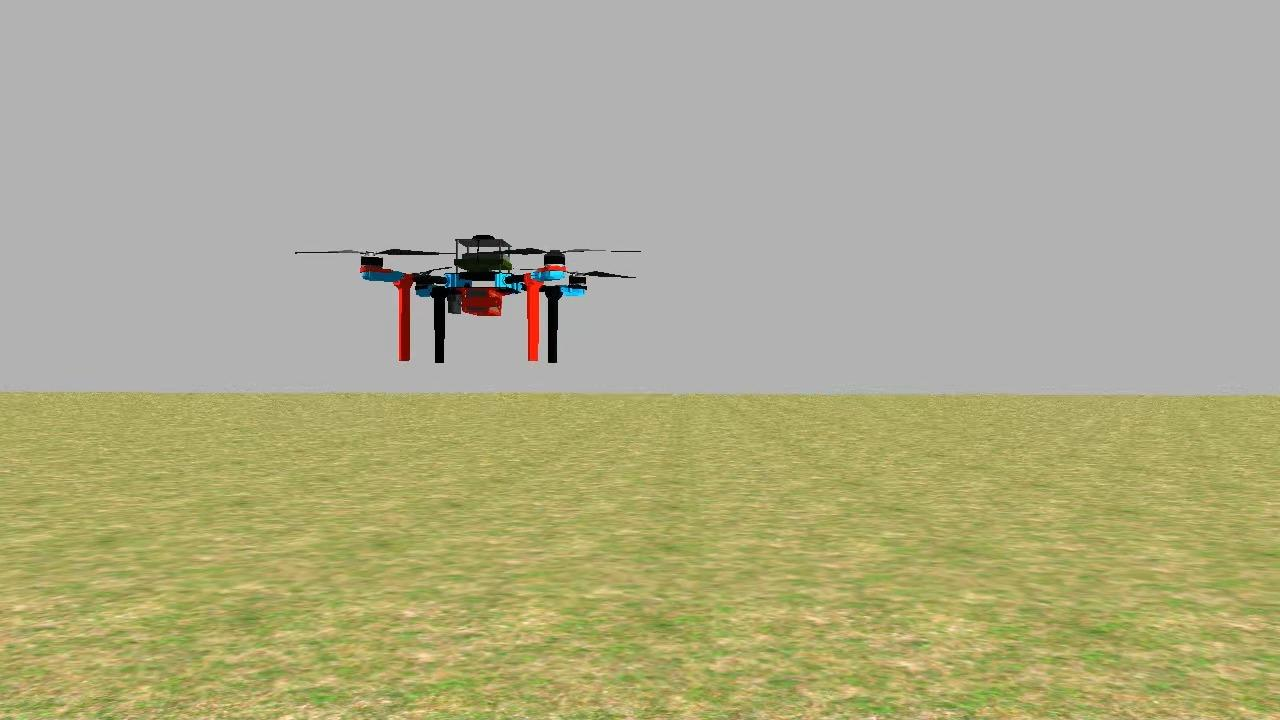UAV: (350, 228, 604, 362)
